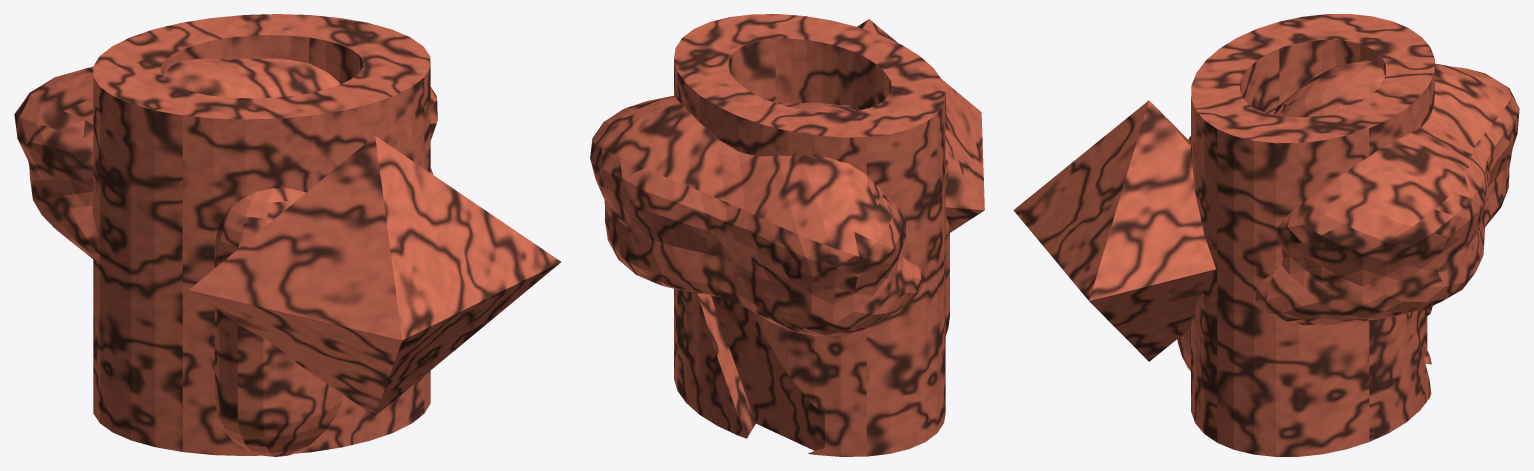
3 renders of one model, left to right at view 1: azimuth 30°, elevation 25°; view 2: azimuth 150°, elevation 25°; view 3: azimuth 270°, elevation 25°, orthographic. The views are drawn at different scales.
Visible parts, largest first — view 1: geometry_0; view 2: geometry_0; view 3: geometry_0.
Boxes of the visible parts, x1,y1,x2,y2 form: geometry_0: [14, 14, 560, 456]; geometry_0: [590, 14, 984, 456]; geometry_0: [1013, 14, 1519, 456].
Bounding box in the file's own units: 1.5 × 1.42 × 1.99.
Materials: 1 (1 with a texture image).
